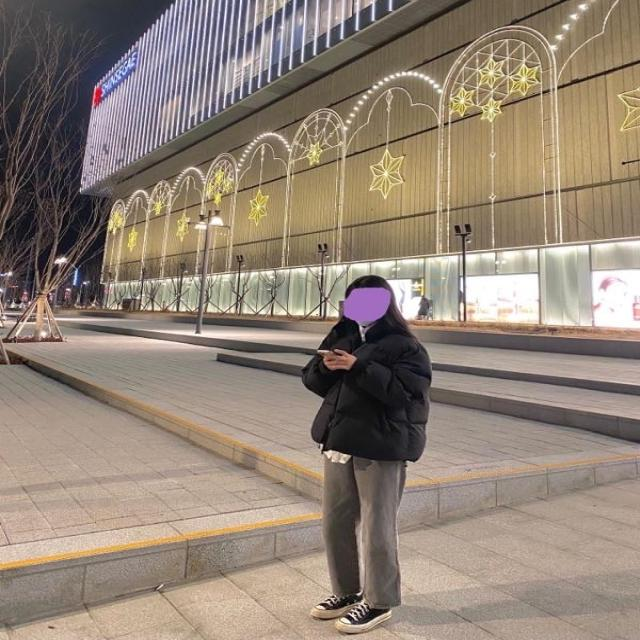denimpants: (322, 448, 406, 612)
padding: (304, 331, 432, 464)
